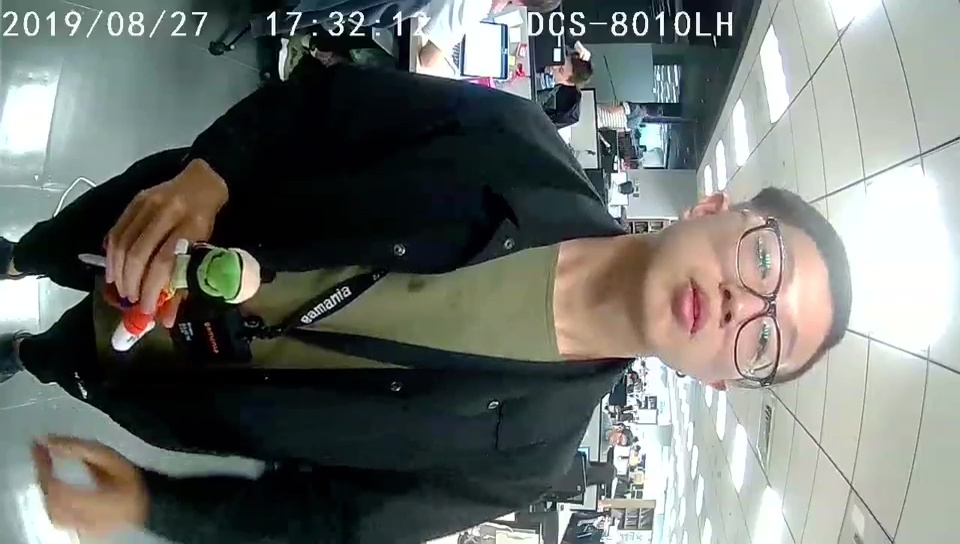goofy: (107, 238, 262, 356)
